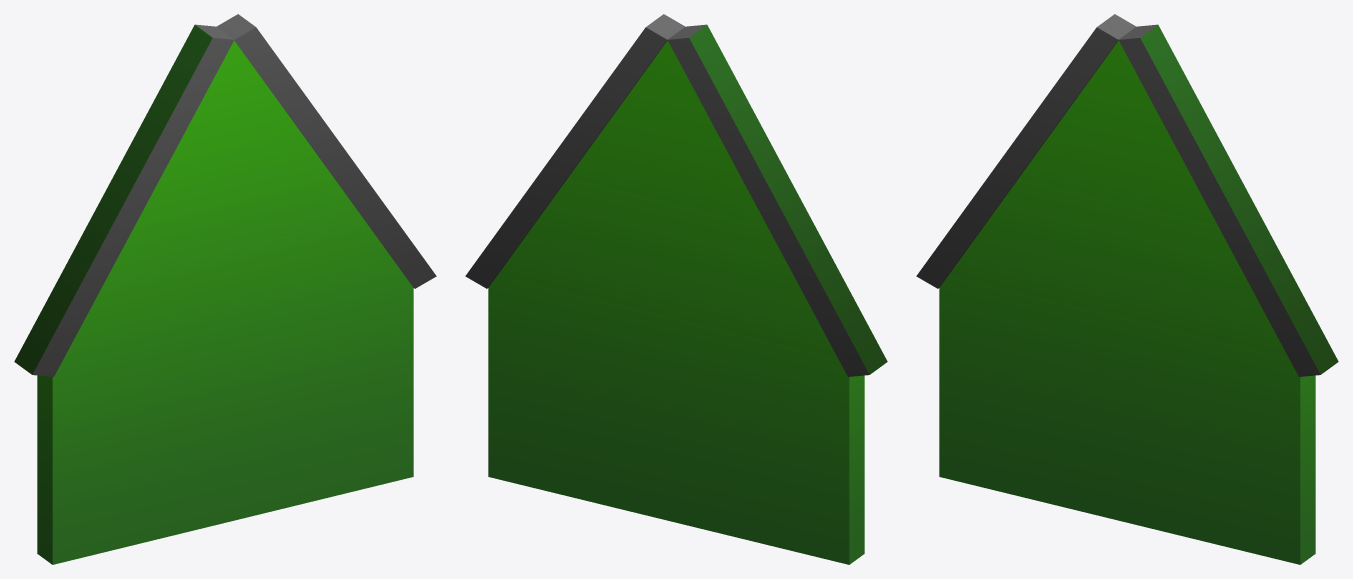
Rendered from Wall_04.fbx.
3 views of the same model, side by side, from view 1: azimuth 30°, elevation 25°; view 2: azimuth 150°, elevation 25°; view 3: azimuth 330°, elevation 25° (orthographic).
Parts seen in each view (by area): view 1: Wall_04; view 2: Wall_04; view 3: Wall_04.
Part boxes in pixels (bbox=[...]): Wall_04: bbox=[14, 14, 436, 564]; Wall_04: bbox=[465, 14, 887, 564]; Wall_04: bbox=[916, 14, 1338, 564].
Bounding box in the file's own units: 448 × 518 × 34.65.
